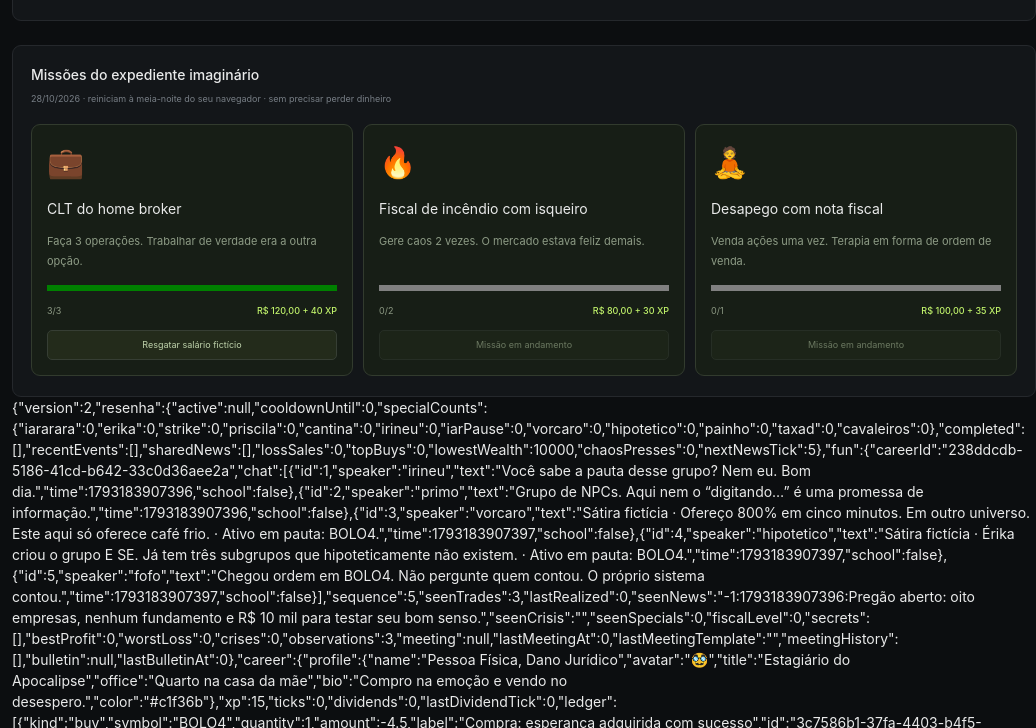
fluxos da expansão › resgata missão pronta e impede resgate duplicado na interface
(page scrolled)
What coordinates should you click on to do the following:
click the button "Resgatar salário fictício"
I would click on:
 (192, 345)
Its box is [47, 330, 337, 360].
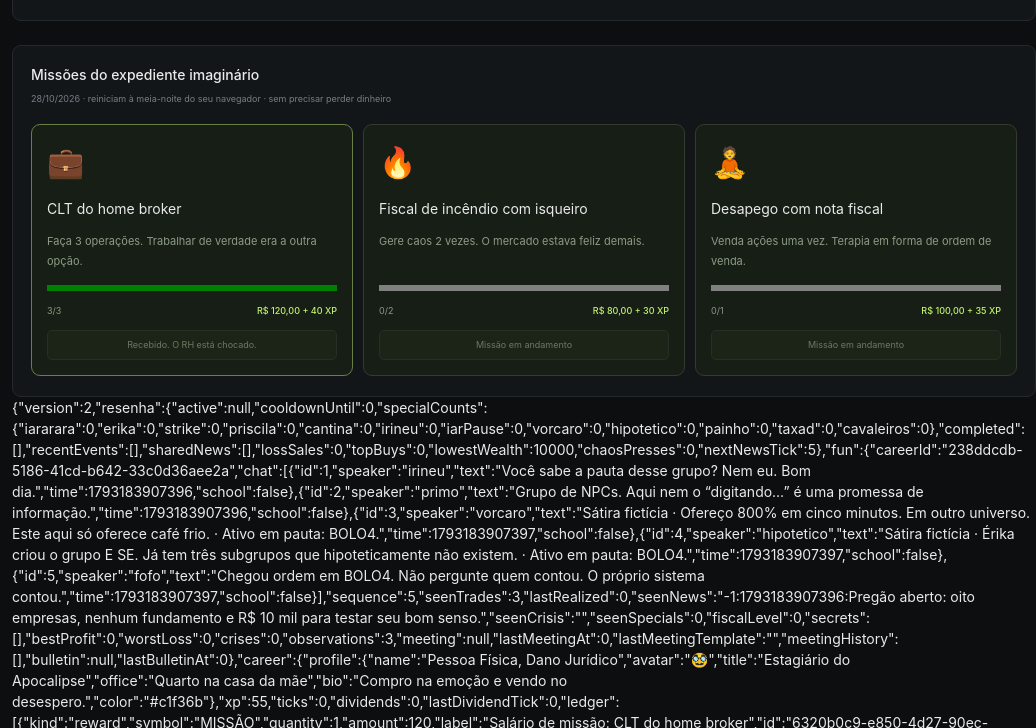
Result: the button "Recebido. O RH está chocado." is disabled at [47, 330, 337, 360]
